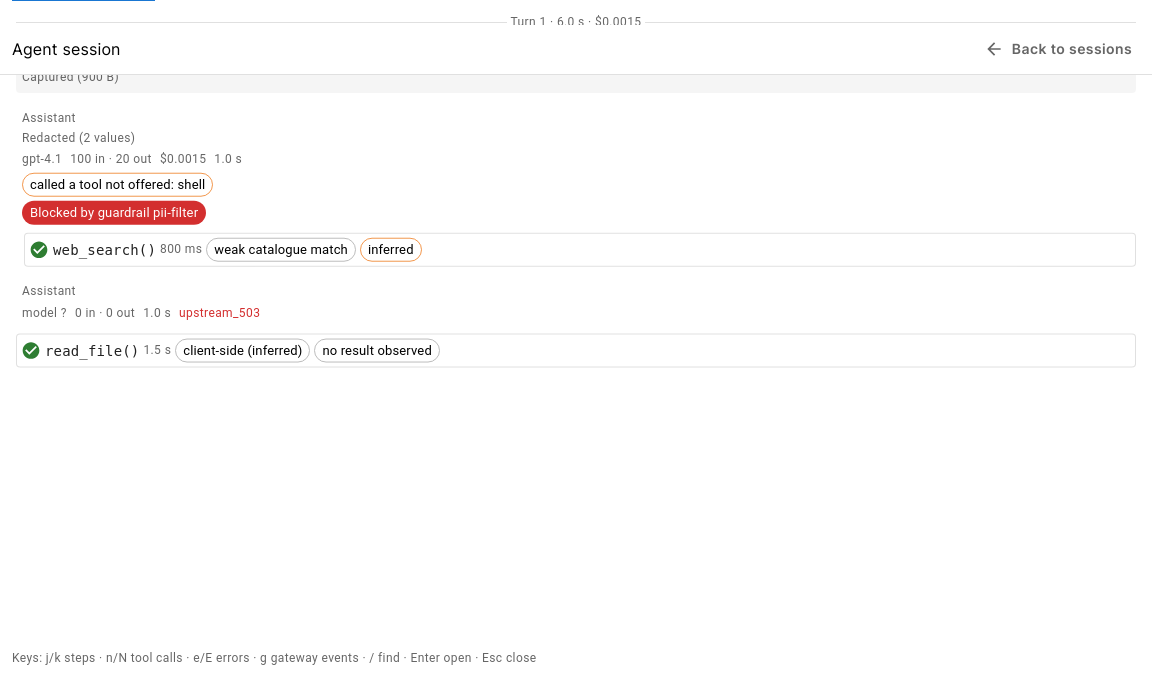
AgentSessionDetail › finds in the session with the term in the request body and selects the match
This screenshot has width=1164, height=681.
(page scrolled)
Check: the element with test id "transcript" is shown, box [16,15,1136,367]
Step 1. Press 2
(page scrolled)
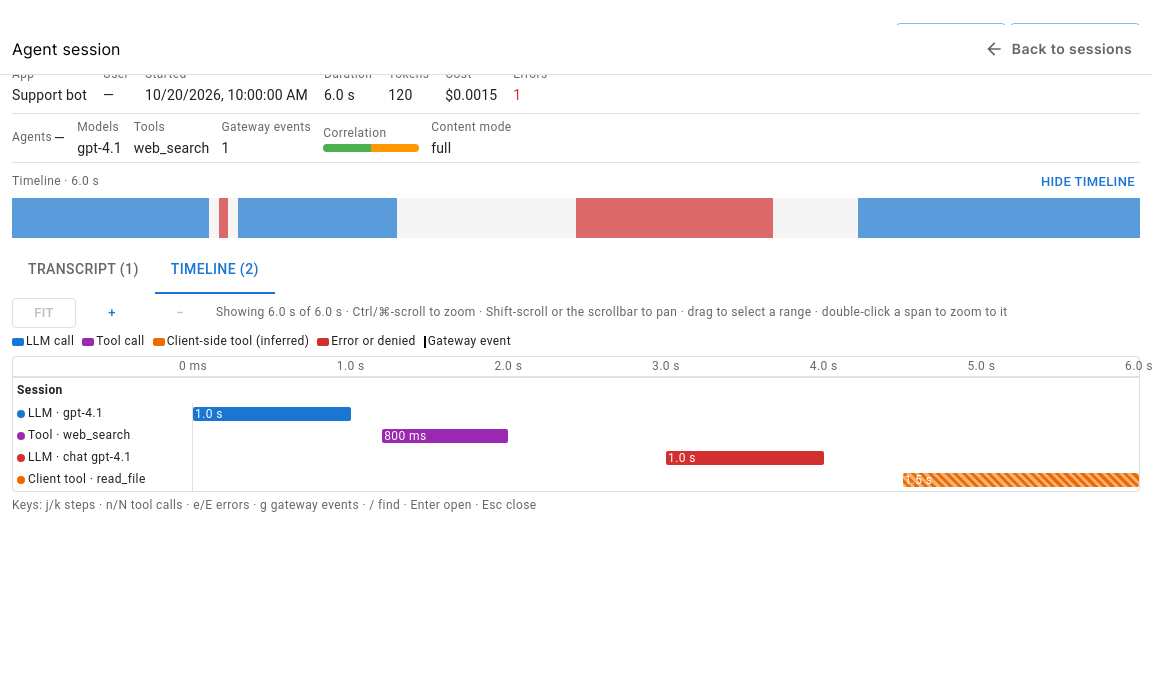
Check: the button with test id "timeline-bar" showing "1.5 s" is shown, box [902,473,1139,487]
Step 2. Press /
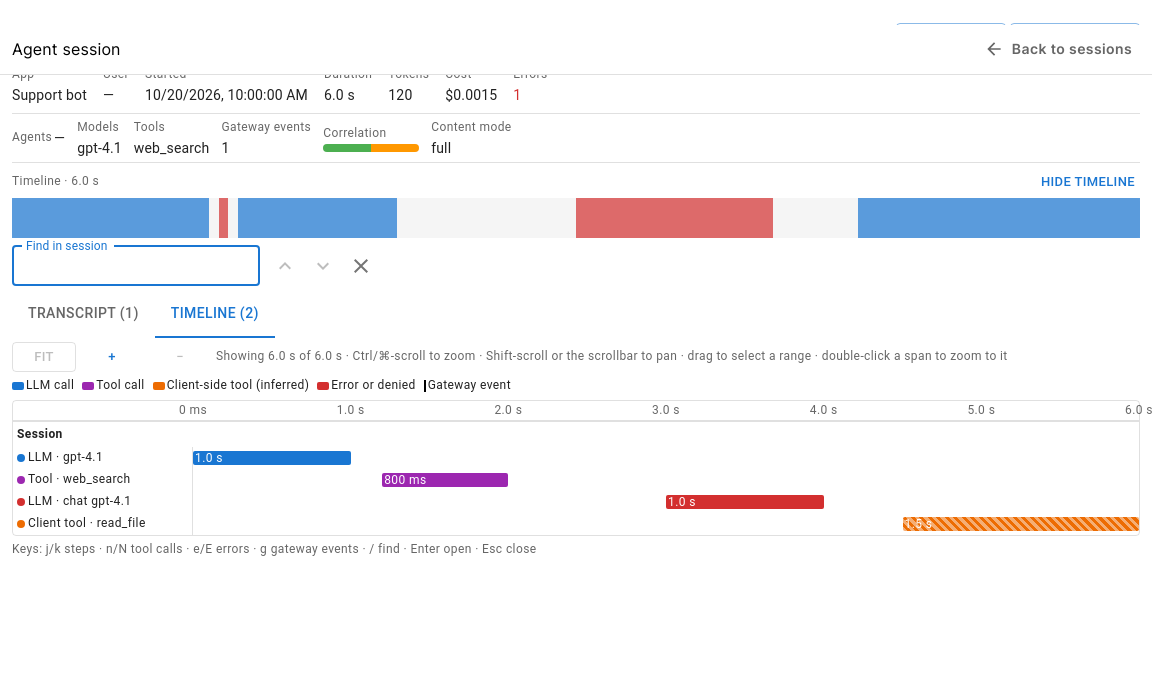
Step 3. Type "web" into the field labelled "Find in session" → (136, 266), box [12,246,260,286]
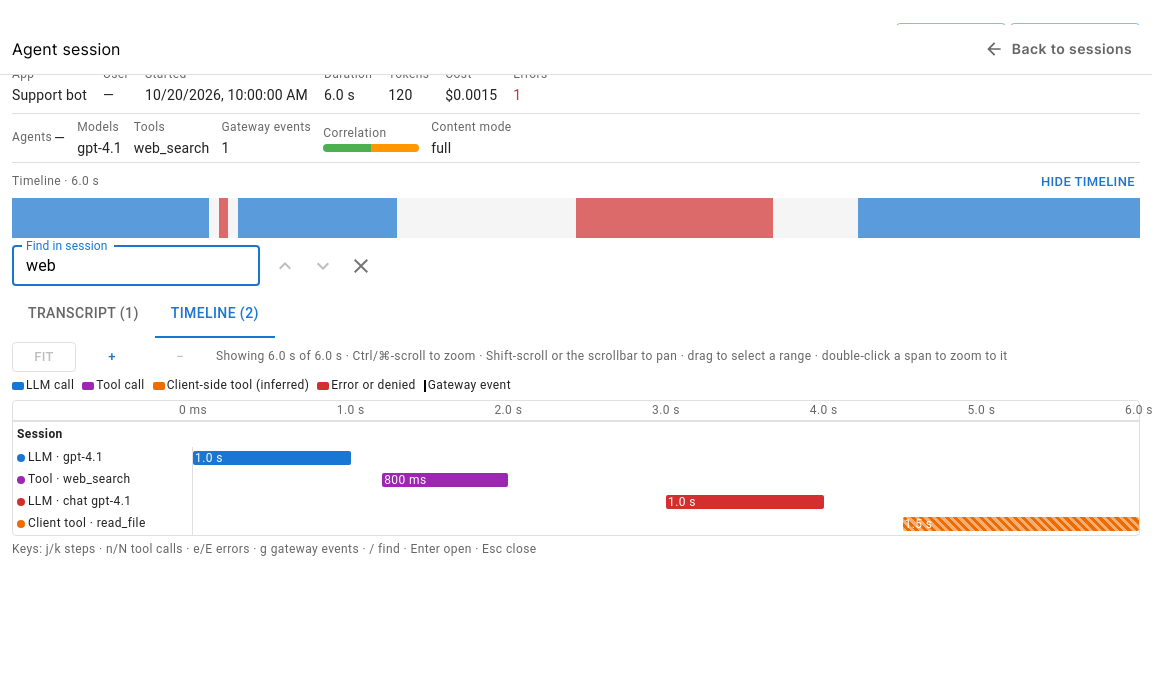
Step 4. Press Enter in the field labelled "Find in session", box [12,246,260,286]
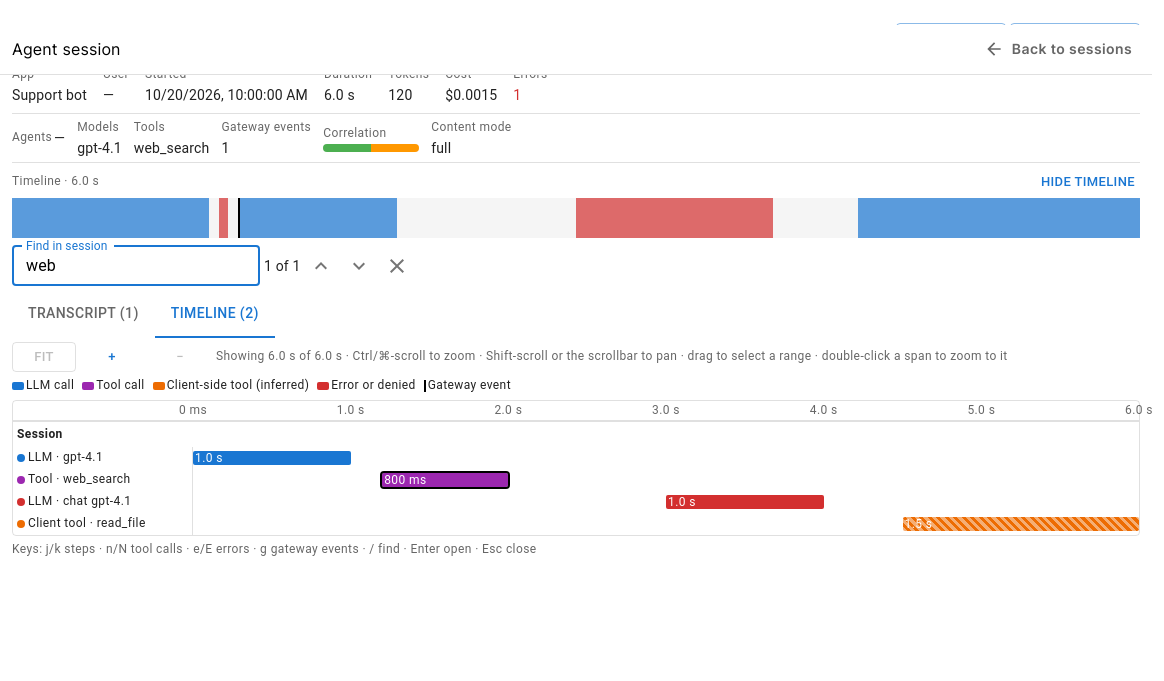
Check: the text with test id "find-count" reads "1 of 1", box [264,258,300,274]
